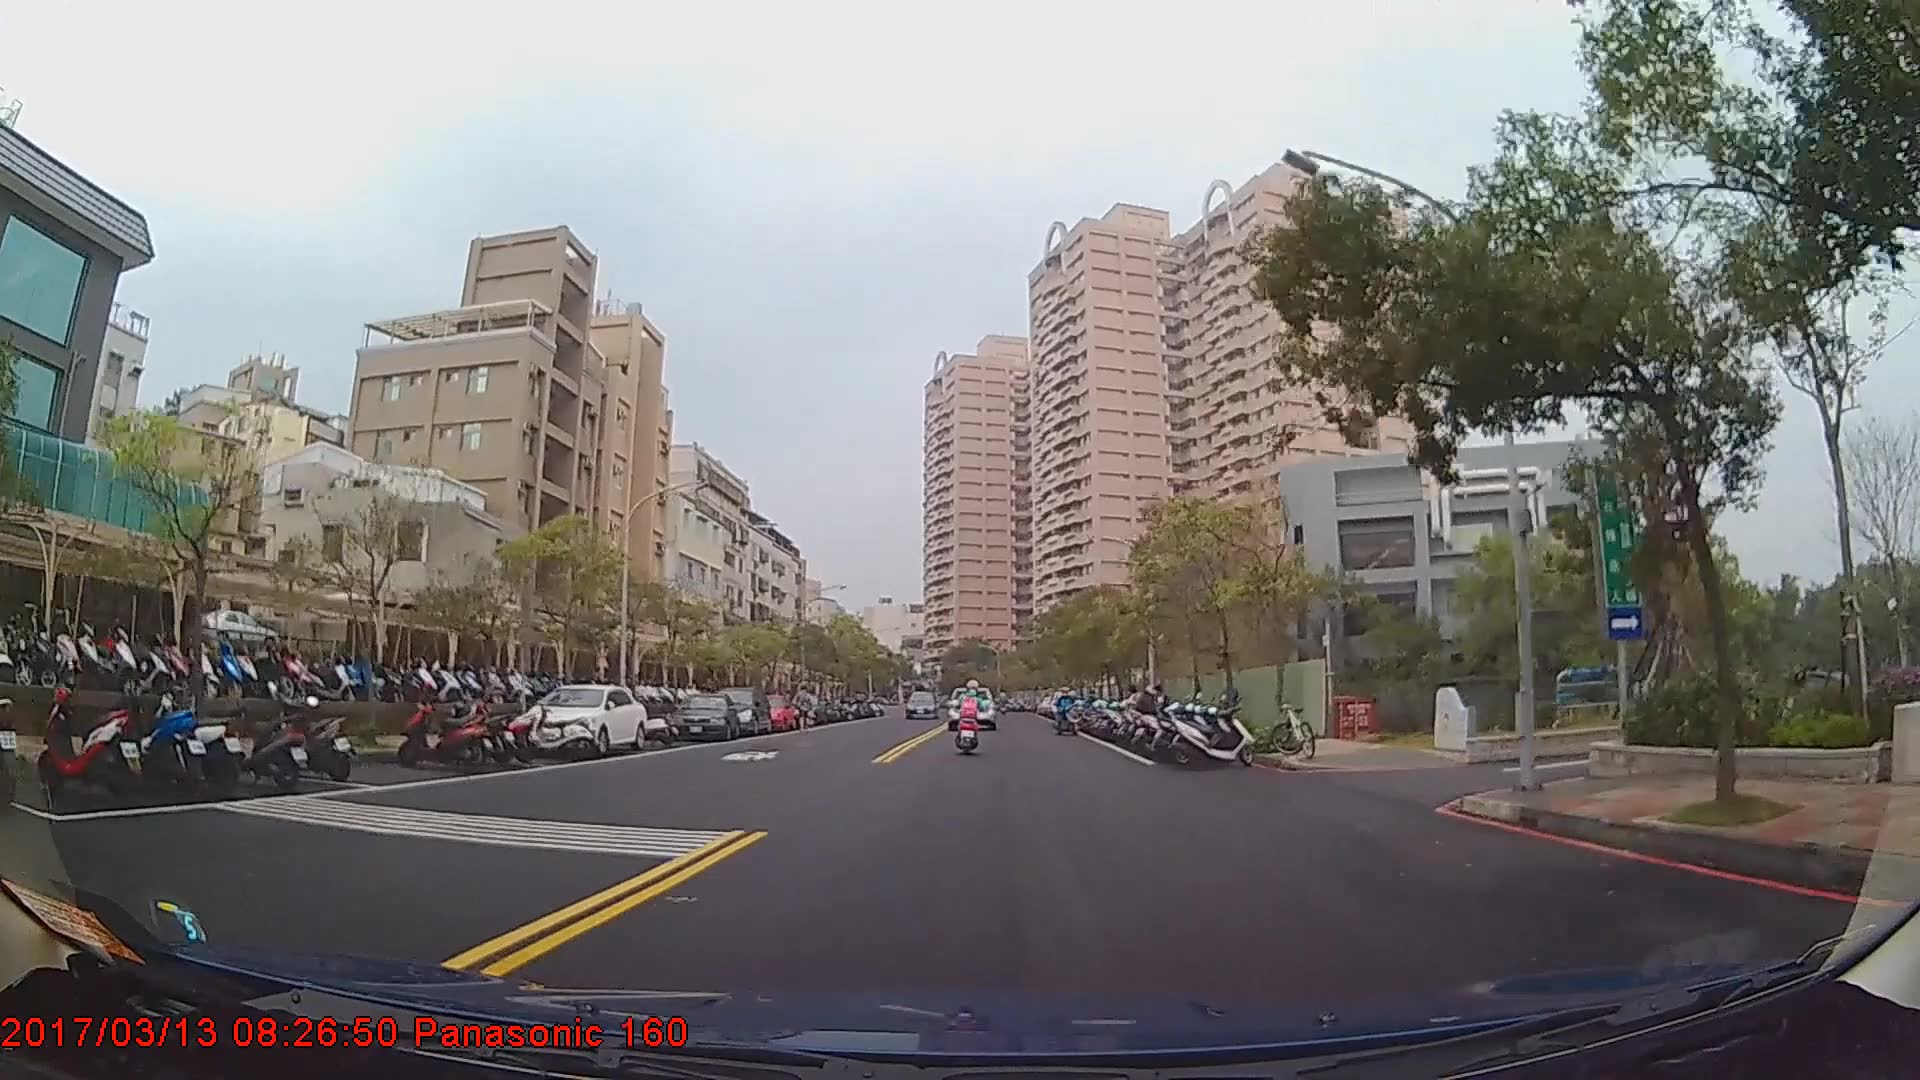pedestrian: (1133, 676, 1168, 748), (1219, 677, 1243, 732), (793, 686, 817, 735)
rider: (958, 676, 987, 748), (1054, 685, 1078, 734)
vehicle: (523, 680, 647, 753), (668, 690, 738, 739), (709, 684, 772, 735), (946, 685, 996, 731), (904, 690, 939, 717)
